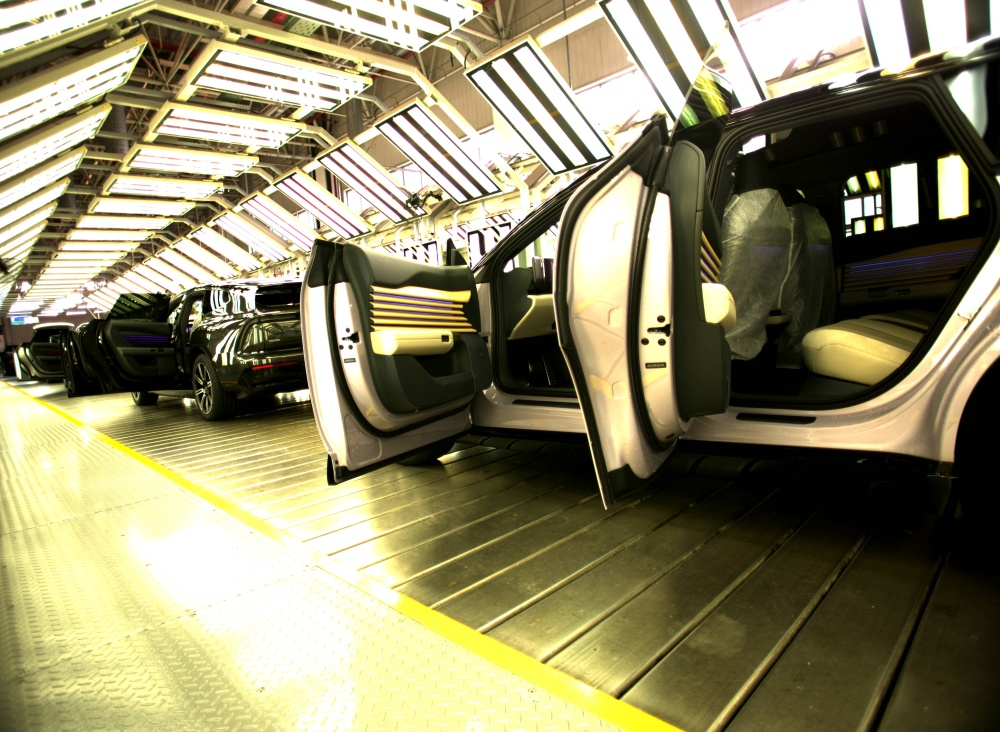armrest_color: (367, 328, 456, 357)
panel_color: (366, 281, 478, 334)
